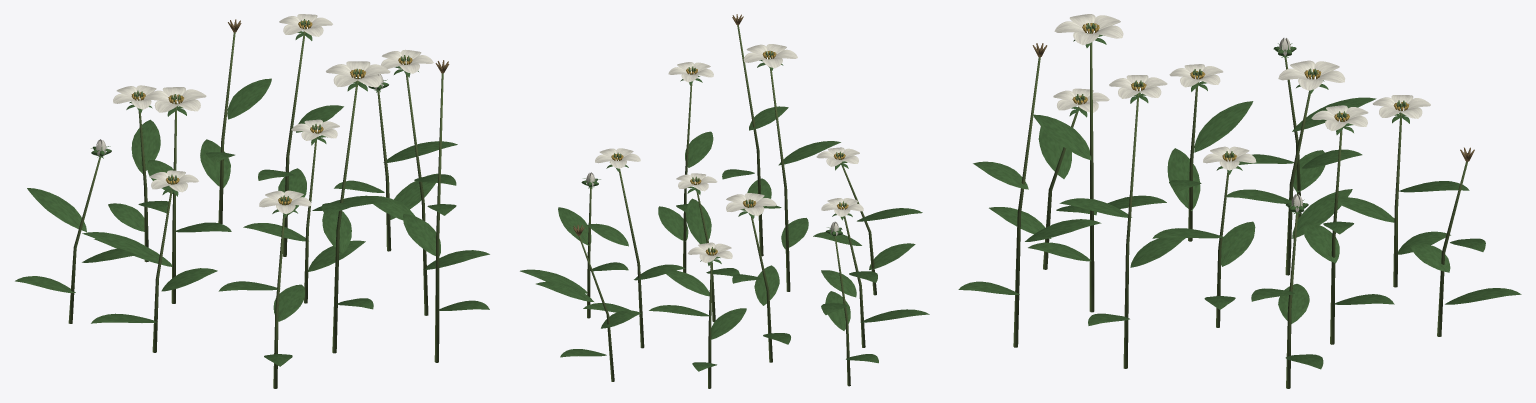
Rendered from white_wildflower_patch.glb.
The picture shows the model from 3 angles, left to right: view 1: azimuth 30°, elevation 25°; view 2: azimuth 150°, elevation 25°; view 3: azimuth 270°, elevation 25°; orthographic projection. The views are drawn at different scales.
Visible parts, largest first — view 1: forest_leaf_surface, forest_flexible_stem_surface, woodland_warm_white_petal_surface, woodland_muted_pollen_surface, forest_new_leaf_surface; view 2: forest_leaf_surface, forest_flexible_stem_surface, woodland_warm_white_petal_surface, woodland_muted_pollen_surface; view 3: forest_leaf_surface, forest_flexible_stem_surface, woodland_warm_white_petal_surface, woodland_muted_pollen_surface.
Boxes of the visible parts, x1=… form: forest_leaf_surface: x1=15, y1=31, x2=489, y2=366; forest_flexible_stem_surface: x1=68, y1=27, x2=443, y2=388; woodland_warm_white_petal_surface: x1=96, y1=14, x2=433, y2=214; woodland_muted_pollen_surface: x1=131, y1=20, x2=412, y2=205; forest_new_leaf_surface: x1=134, y1=19, x2=409, y2=203; forest_leaf_surface: x1=520, y1=58, x2=929, y2=371; forest_flexible_stem_surface: x1=578, y1=25, x2=876, y2=388; woodland_warm_white_petal_surface: x1=586, y1=44, x2=863, y2=262; woodland_muted_pollen_surface: x1=611, y1=51, x2=848, y2=255; forest_leaf_surface: x1=958, y1=33, x2=1521, y2=369; forest_flexible_stem_surface: x1=1013, y1=31, x2=1467, y2=388; woodland_warm_white_petal_surface: x1=1053, y1=14, x2=1430, y2=212; woodland_muted_pollen_surface: x1=1072, y1=23, x2=1409, y2=161.
Size of the model in its own units: 0.8851 by 0.5704 by 0.9397.
6 materials, 6 textured.
